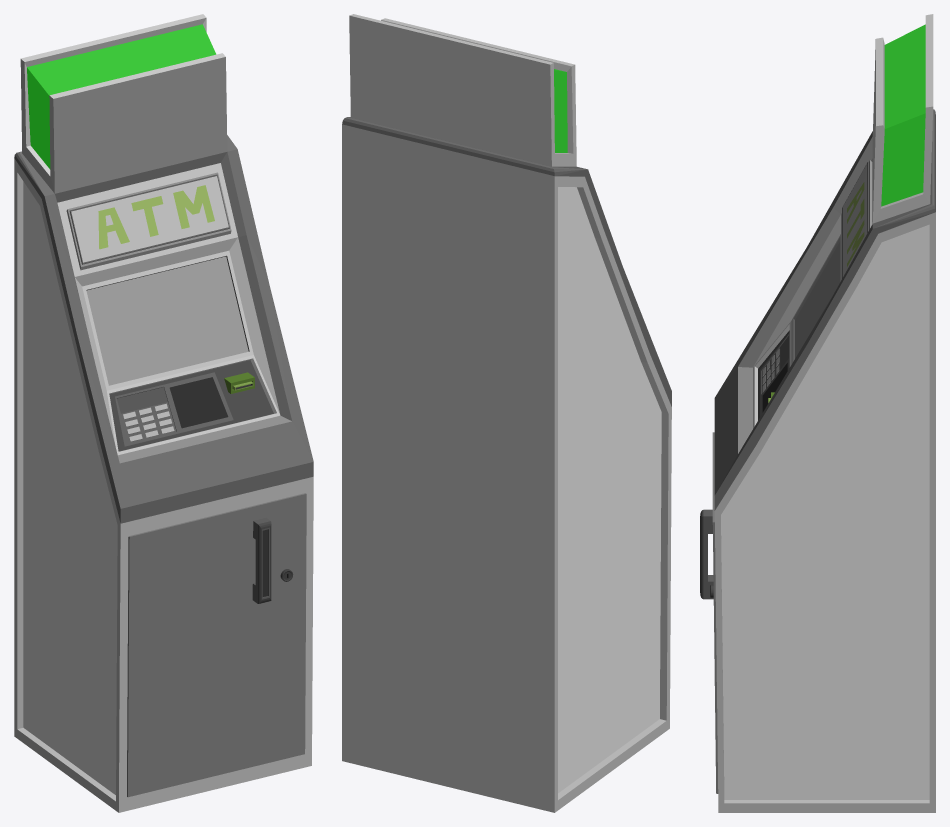
Rendered from ATM #1.fbx.
The picture shows the model from 3 angles, left to right: view 1: azimuth 30°, elevation 25°; view 2: azimuth 150°, elevation 25°; view 3: azimuth 270°, elevation 25°; orthographic projection. The views are drawn at different scales.
Parts seen in each view (by area): view 1: ATM New; view 2: ATM New; view 3: ATM New.
Boxes of the visible parts, <box> form: ATM New: <box>14,14,313,812</box>; ATM New: <box>342,14,671,812</box>; ATM New: <box>700,14,935,812</box>.
Size of the model in its own units: 57.84 by 194 by 58.84.
Materials: 3 (2 with a texture image).
